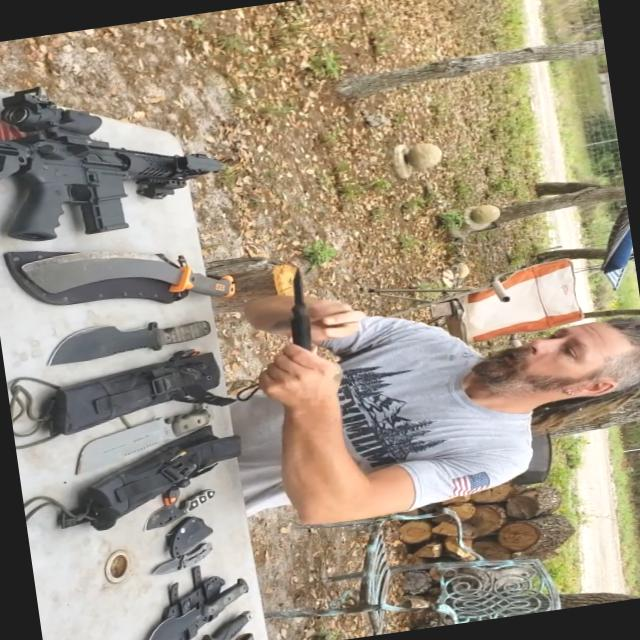knife: (1, 212, 240, 331), (34, 302, 230, 378), (62, 396, 228, 482), (125, 568, 285, 639), (129, 472, 249, 542), (265, 261, 327, 373), (146, 534, 227, 584), (161, 611, 267, 639)
long weapon: (0, 54, 249, 274)
